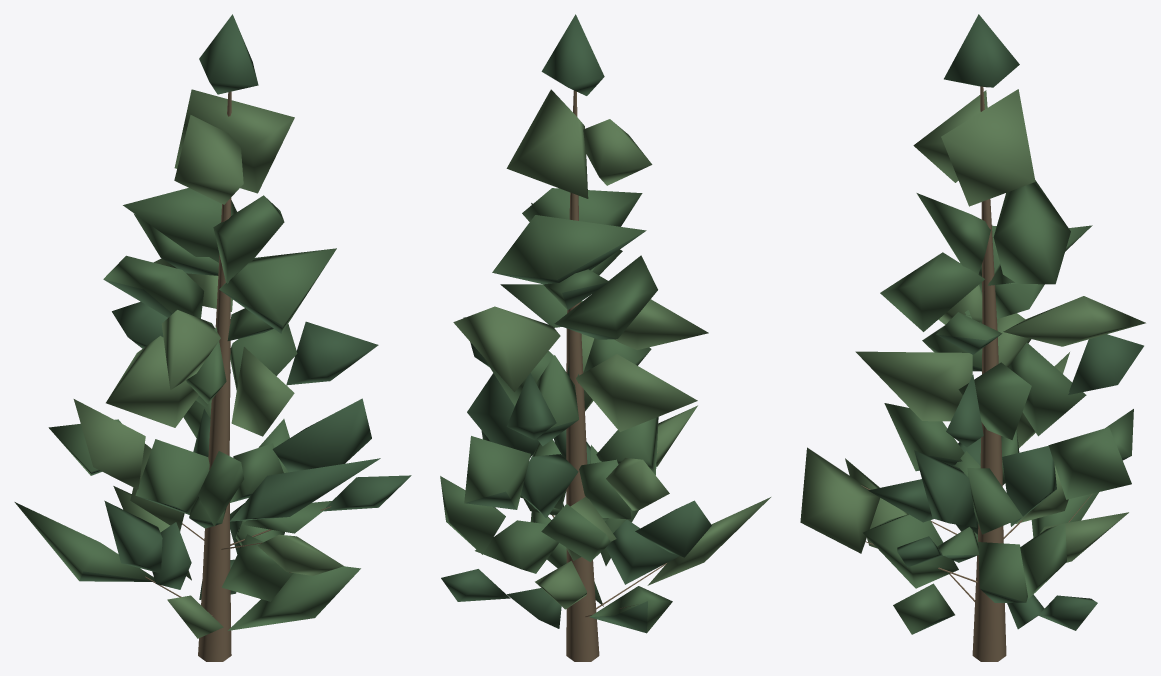
The model's file is spruce-a-low.glb.
The picture shows the model from 3 angles, left to right: view 1: azimuth 30°, elevation 25°; view 2: azimuth 150°, elevation 25°; view 3: azimuth 270°, elevation 25°; orthographic projection. The views are drawn at different scales.
Size of the model in its own units: 5.66 by 12.2 by 5.91.
